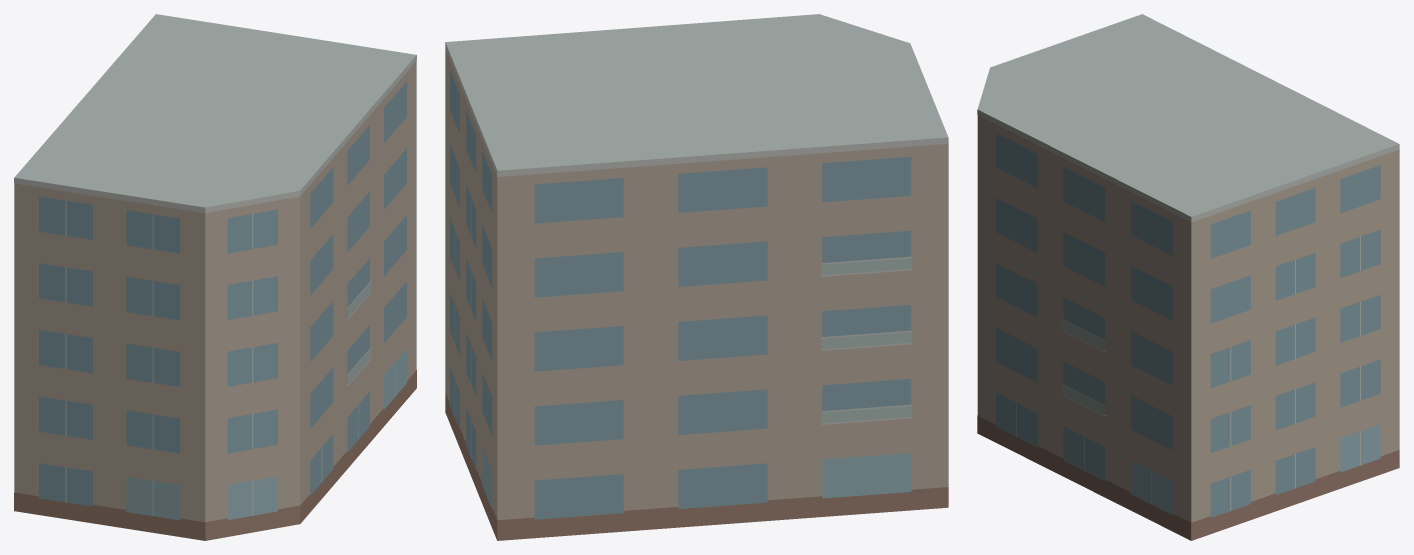
The model's file is survey-upis-32774503.glb.
3 renders of one model, left to right at view 1: azimuth 30°, elevation 25°; view 2: azimuth 150°, elevation 25°; view 3: azimuth 270°, elevation 25°, orthographic. The views are drawn at different scales.
Visible parts, largest first — view 1: survey-upis-32774503.tmp; view 2: survey-upis-32774503.tmp; view 3: survey-upis-32774503.tmp.
Part boxes in pixels (x1=…): survey-upis-32774503.tmp: x1=14, y1=14, x2=416, y2=540; survey-upis-32774503.tmp: x1=445, y1=14, x2=948, y2=540; survey-upis-32774503.tmp: x1=977, y1=14, x2=1399, y2=540.
Size of the model in its own units: 19.22 by 14.3 by 16.89.
